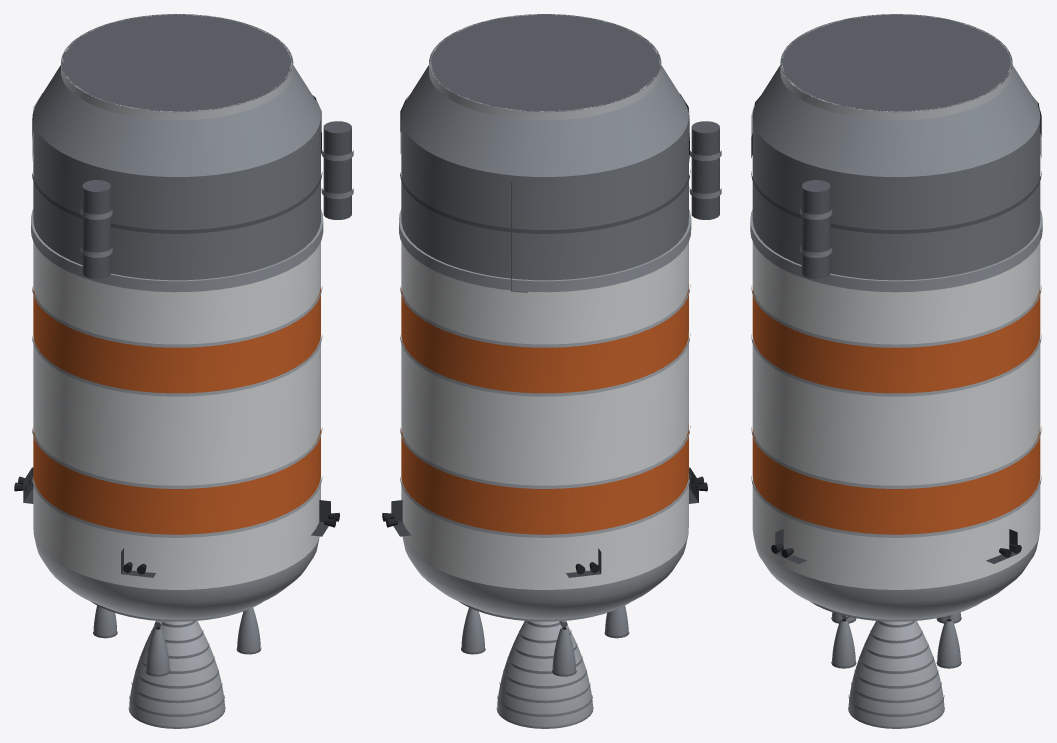
The model's file is kosmos3m-stage2.glb.
3 renders of one model, left to right at view 1: azimuth 30°, elevation 25°; view 2: azimuth 150°, elevation 25°; view 3: azimuth 270°, elevation 25°, orthographic.
Parts seen in each view (by area): view 1: body; view 2: body; view 3: body.
Part boxes in pixels (x1,y1,x2,y2): body: (14,14,353,728); body: (382,14,721,728); body: (750,14,1042,728).
Size of the model in its own units: 2.59 by 5.94 by 2.44.
